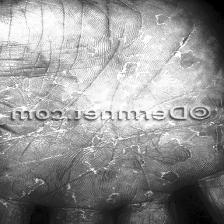Non-Cancerous Skin Condition: (9, 123, 200, 198)
